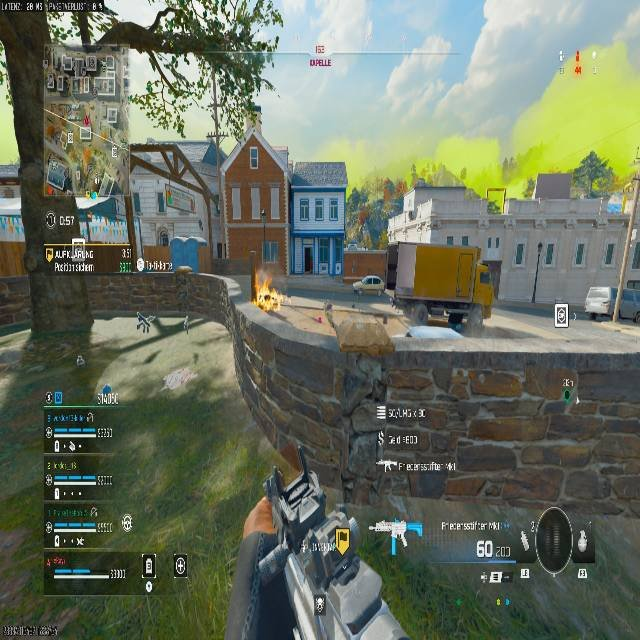player: (135, 312, 153, 333)
